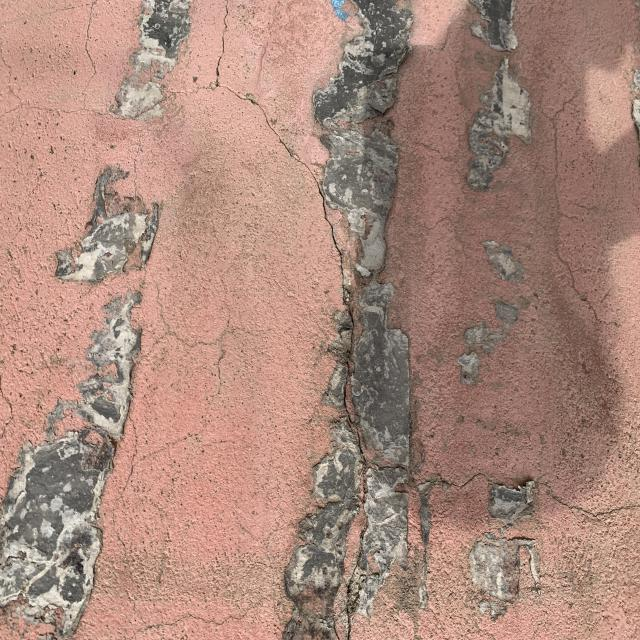horizontal crack: (379, 520, 568, 557)
vertical crack: (268, 2, 376, 523), (411, 551, 427, 634)
